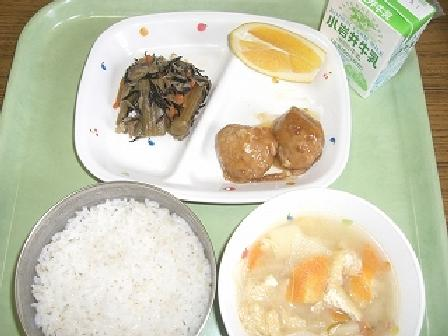Citrus: (225, 14, 330, 88)
Milk: (316, 0, 440, 84)
Rice: (12, 182, 216, 335)
Soups: (220, 192, 422, 335)
cutlet: (213, 110, 325, 187)
salad with sauce: (113, 46, 213, 144)
